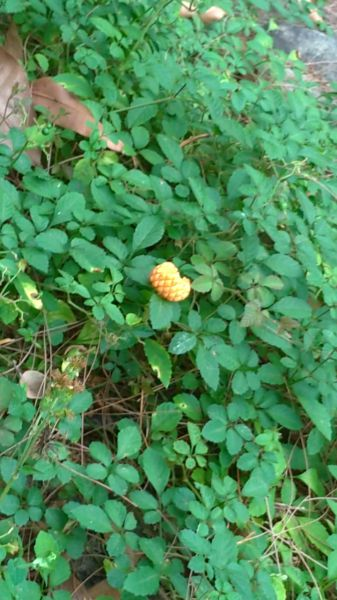eggs: (145, 261, 197, 308)
